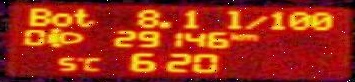0: (191, 52, 217, 73), (285, 9, 309, 30), (309, 10, 332, 31), (21, 28, 44, 45)
1: (179, 8, 203, 29), (223, 7, 242, 28), (268, 10, 283, 31), (171, 29, 182, 48)
2: (164, 52, 189, 73), (112, 28, 135, 46)
4: (184, 31, 203, 47)
5: (55, 55, 75, 71)
6: (127, 50, 154, 72), (207, 30, 226, 49)
8: (134, 7, 157, 26)
9: (135, 29, 161, 46)
X: (26, 5, 49, 26), (72, 7, 95, 28), (244, 13, 267, 29), (82, 55, 103, 71), (49, 11, 70, 26), (239, 31, 257, 42), (156, 55, 164, 71), (228, 30, 239, 41)
